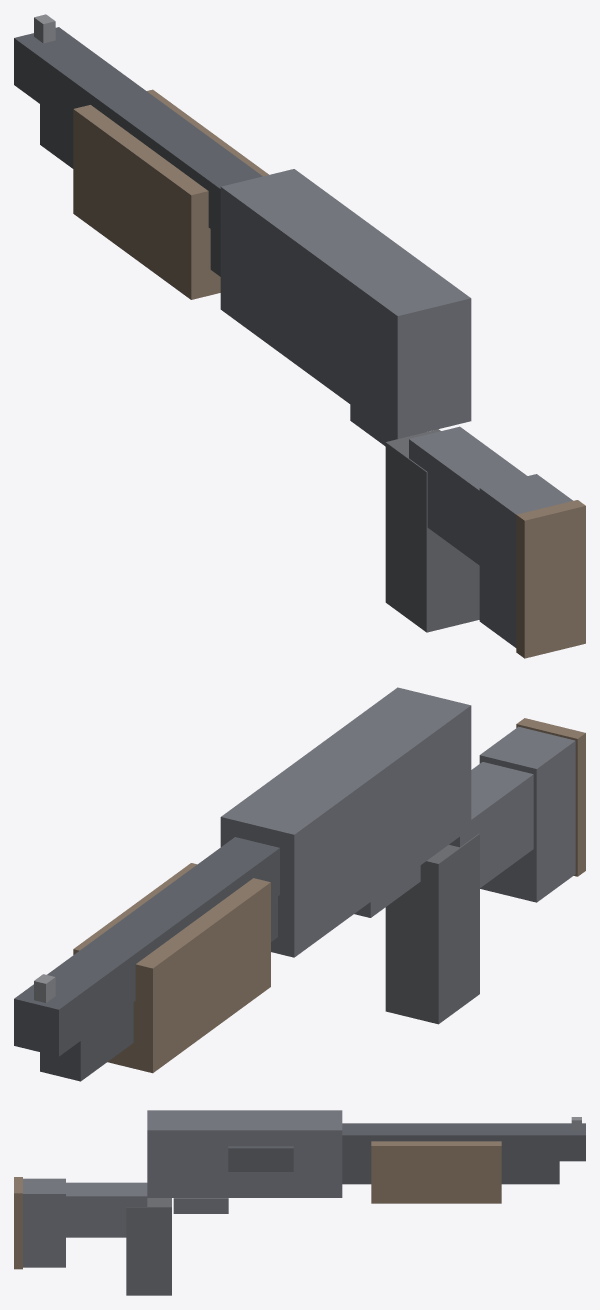
File: shotgun.glb
The picture shows the model from 3 angles, top to bottom: view 1: azimuth 30°, elevation 25°; view 2: azimuth 150°, elevation 25°; view 3: azimuth 270°, elevation 25°; orthographic projection. The views are drawn at different scales.
Visible parts, largest first — view 1: receiver, pump, barrel, grip, butt_plate, stock_wrist, stock_butt, magazine_tube; view 2: receiver, pump, barrel, grip, stock_butt, stock_wrist, magazine_tube, butt_plate, trigger_guard, front_bead; view 3: receiver, pump, barrel, grip, stock_wrist, stock_butt, magazine_tube, ejection_port, trigger_guard, butt_plate.
Part boxes in pixels (box(x1,y1,x2,y2)): receiver: box(220, 169, 471, 438); pump: box(73, 89, 268, 299); barrel: box(14, 27, 262, 235); grip: box(385, 429, 479, 632); butt_plate: box(516, 500, 585, 658); stock_wrist: box(409, 426, 527, 565); stock_butt: box(479, 474, 572, 647); magazine_tube: box(40, 104, 220, 276); receiver: box(220, 687, 471, 957); pump: box(73, 863, 270, 1073); barrel: box(14, 837, 279, 1056); grip: box(385, 833, 479, 1024); stock_butt: box(479, 726, 575, 902); stock_wrist: box(449, 762, 533, 887); magazine_tube: box(40, 896, 277, 1081); butt_plate: box(516, 718, 585, 876); trigger_guard: box(354, 865, 420, 917); front_bead: box(34, 974, 55, 1002); receiver: box(147, 1110, 342, 1197); pump: box(371, 1141, 501, 1203); barrel: box(342, 1123, 585, 1161); grip: box(126, 1198, 171, 1295); stock_wrist: box(66, 1182, 147, 1237); stock_butt: box(23, 1178, 65, 1267); magazine_tube: box(342, 1161, 559, 1184); ejection_port: box(228, 1146, 293, 1171); trigger_guard: box(173, 1198, 228, 1213); butt_plate: box(14, 1177, 22, 1269).
Bounding box in the file's own units: 0.082 × 0.288 × 0.88.
